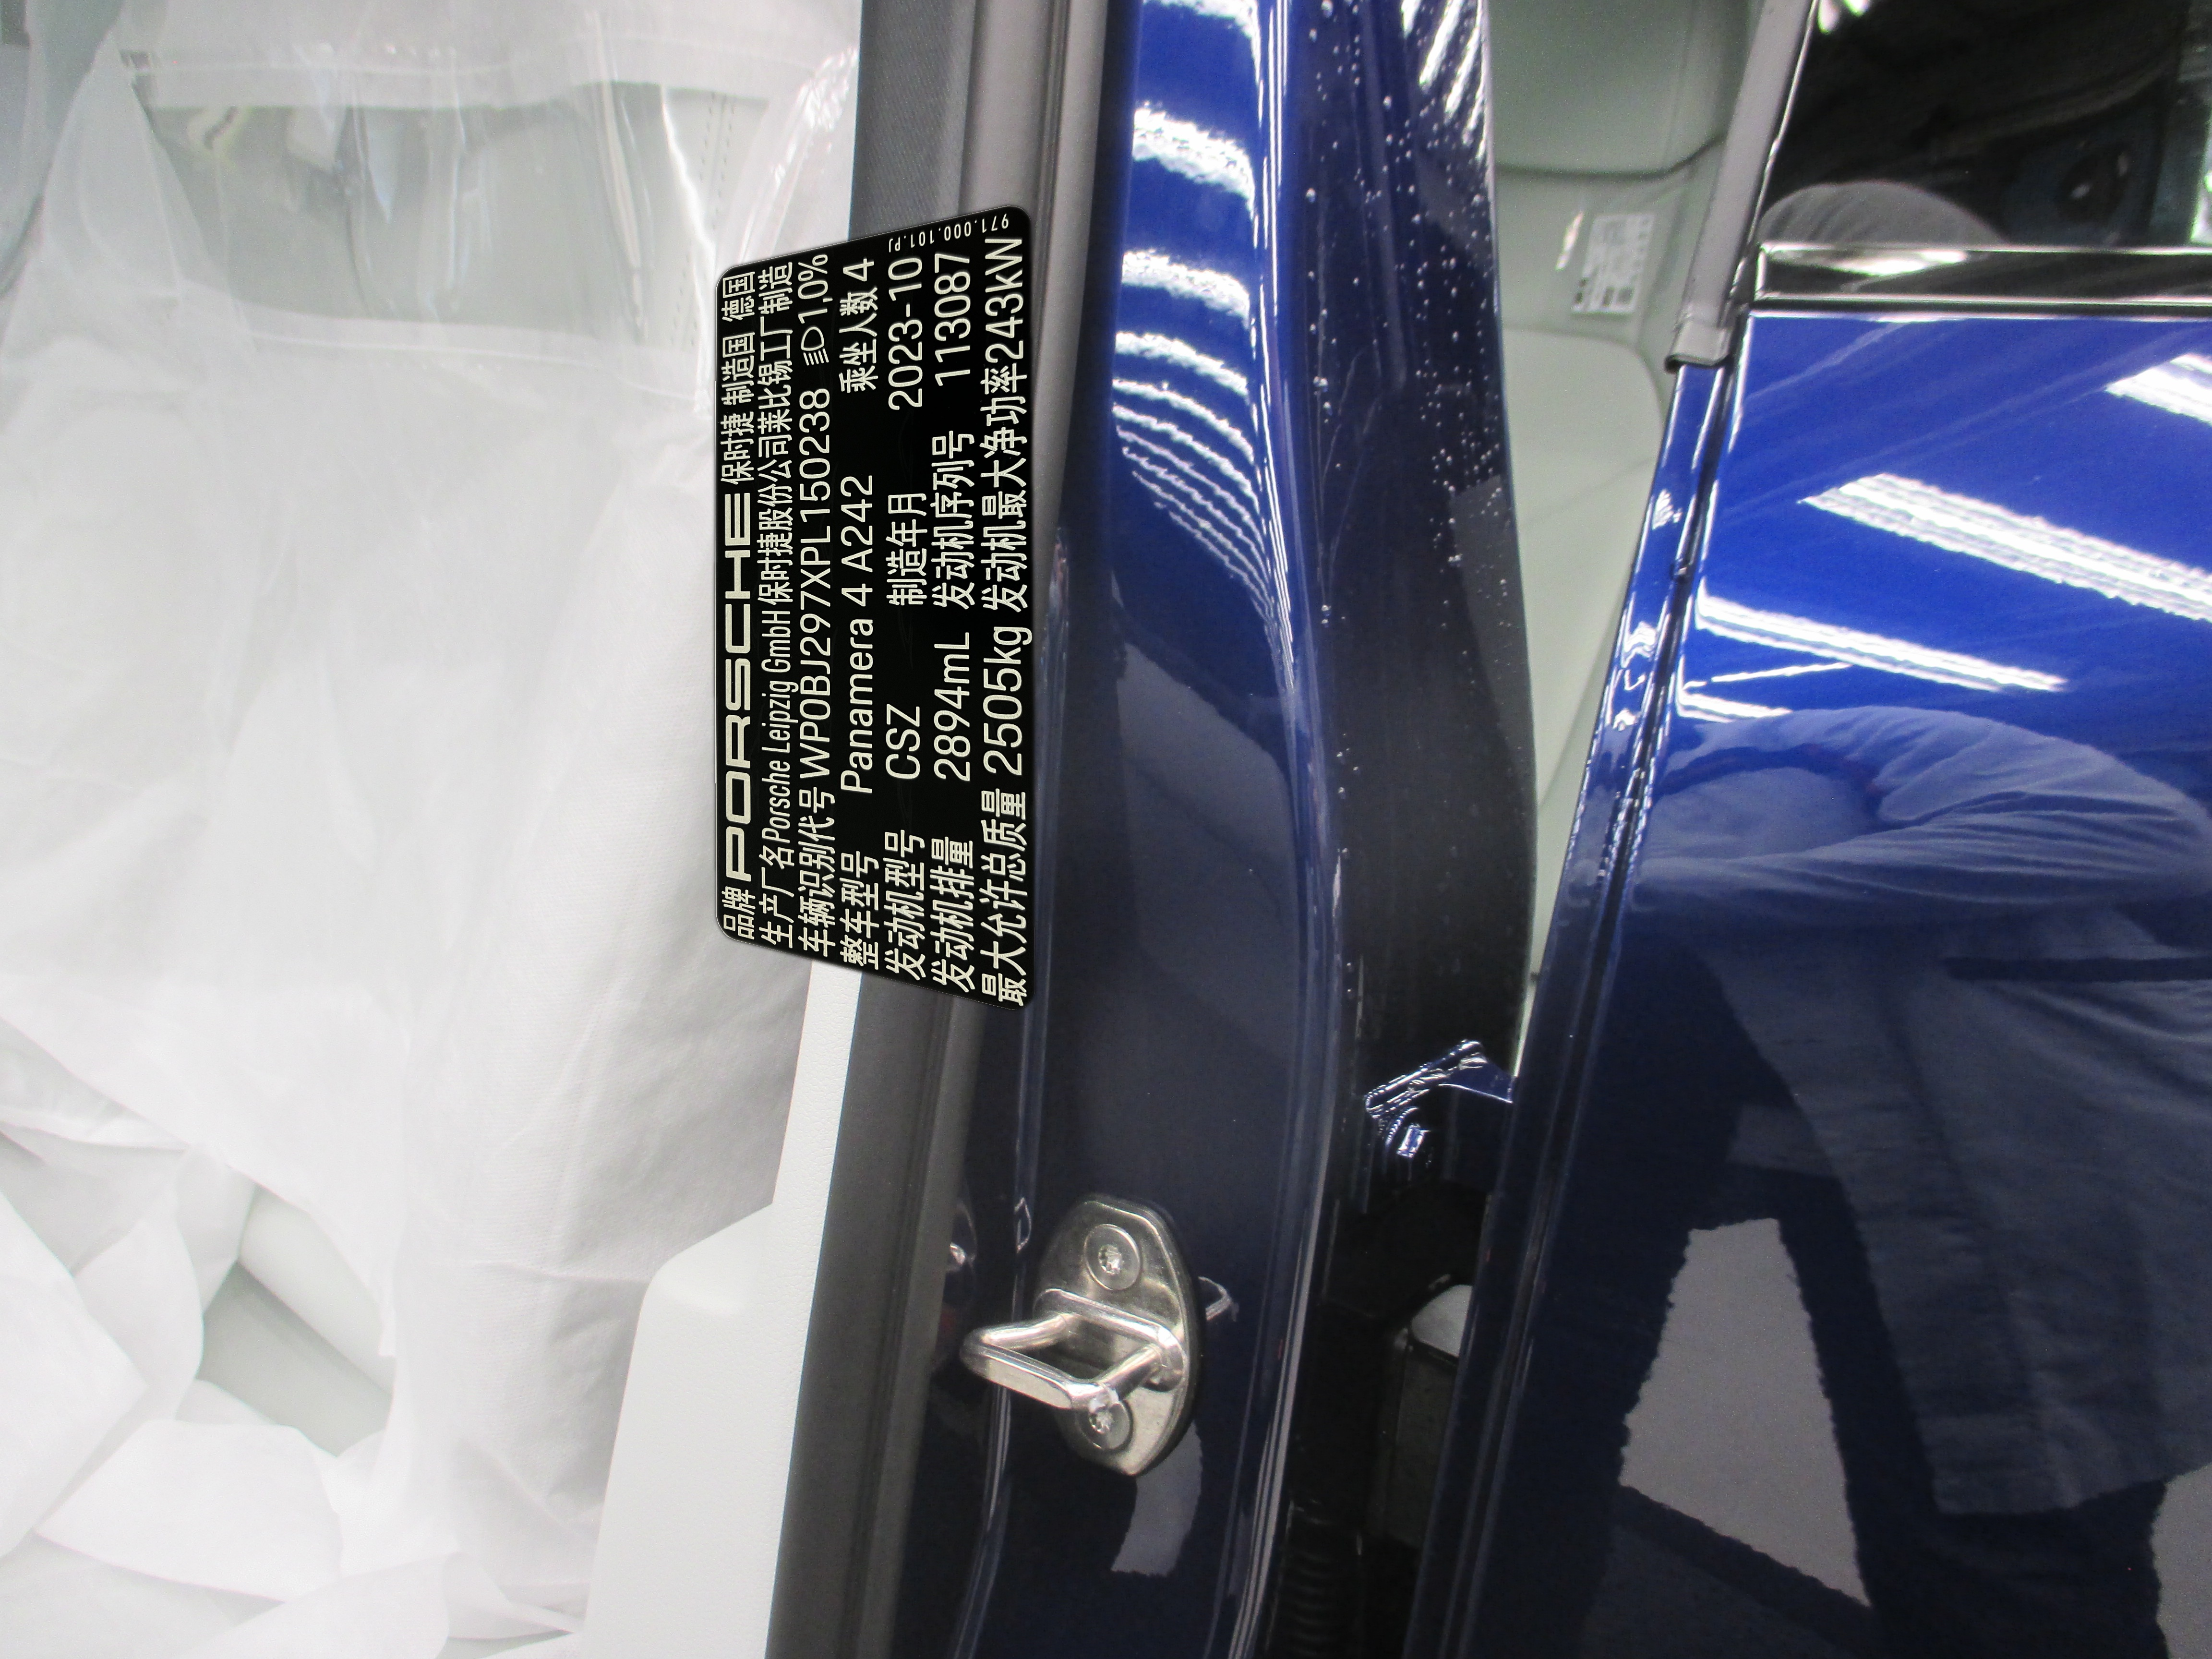Typlabel-China: (714, 206, 1035, 1009)
